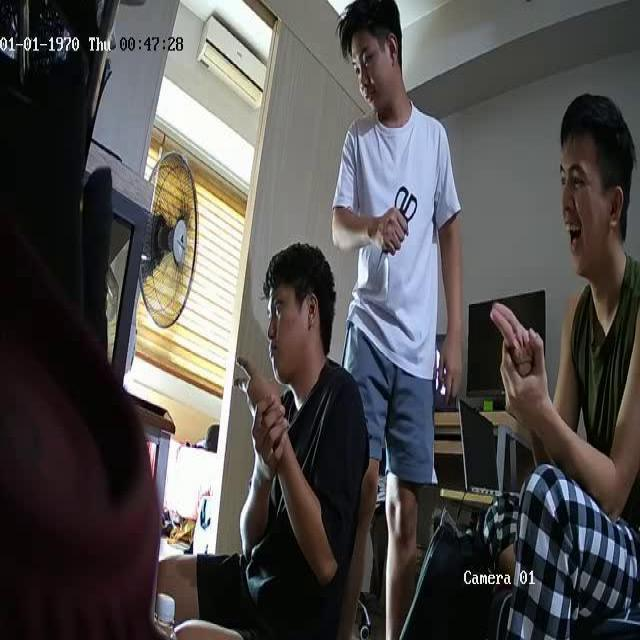scissor: (377, 189, 417, 272)
